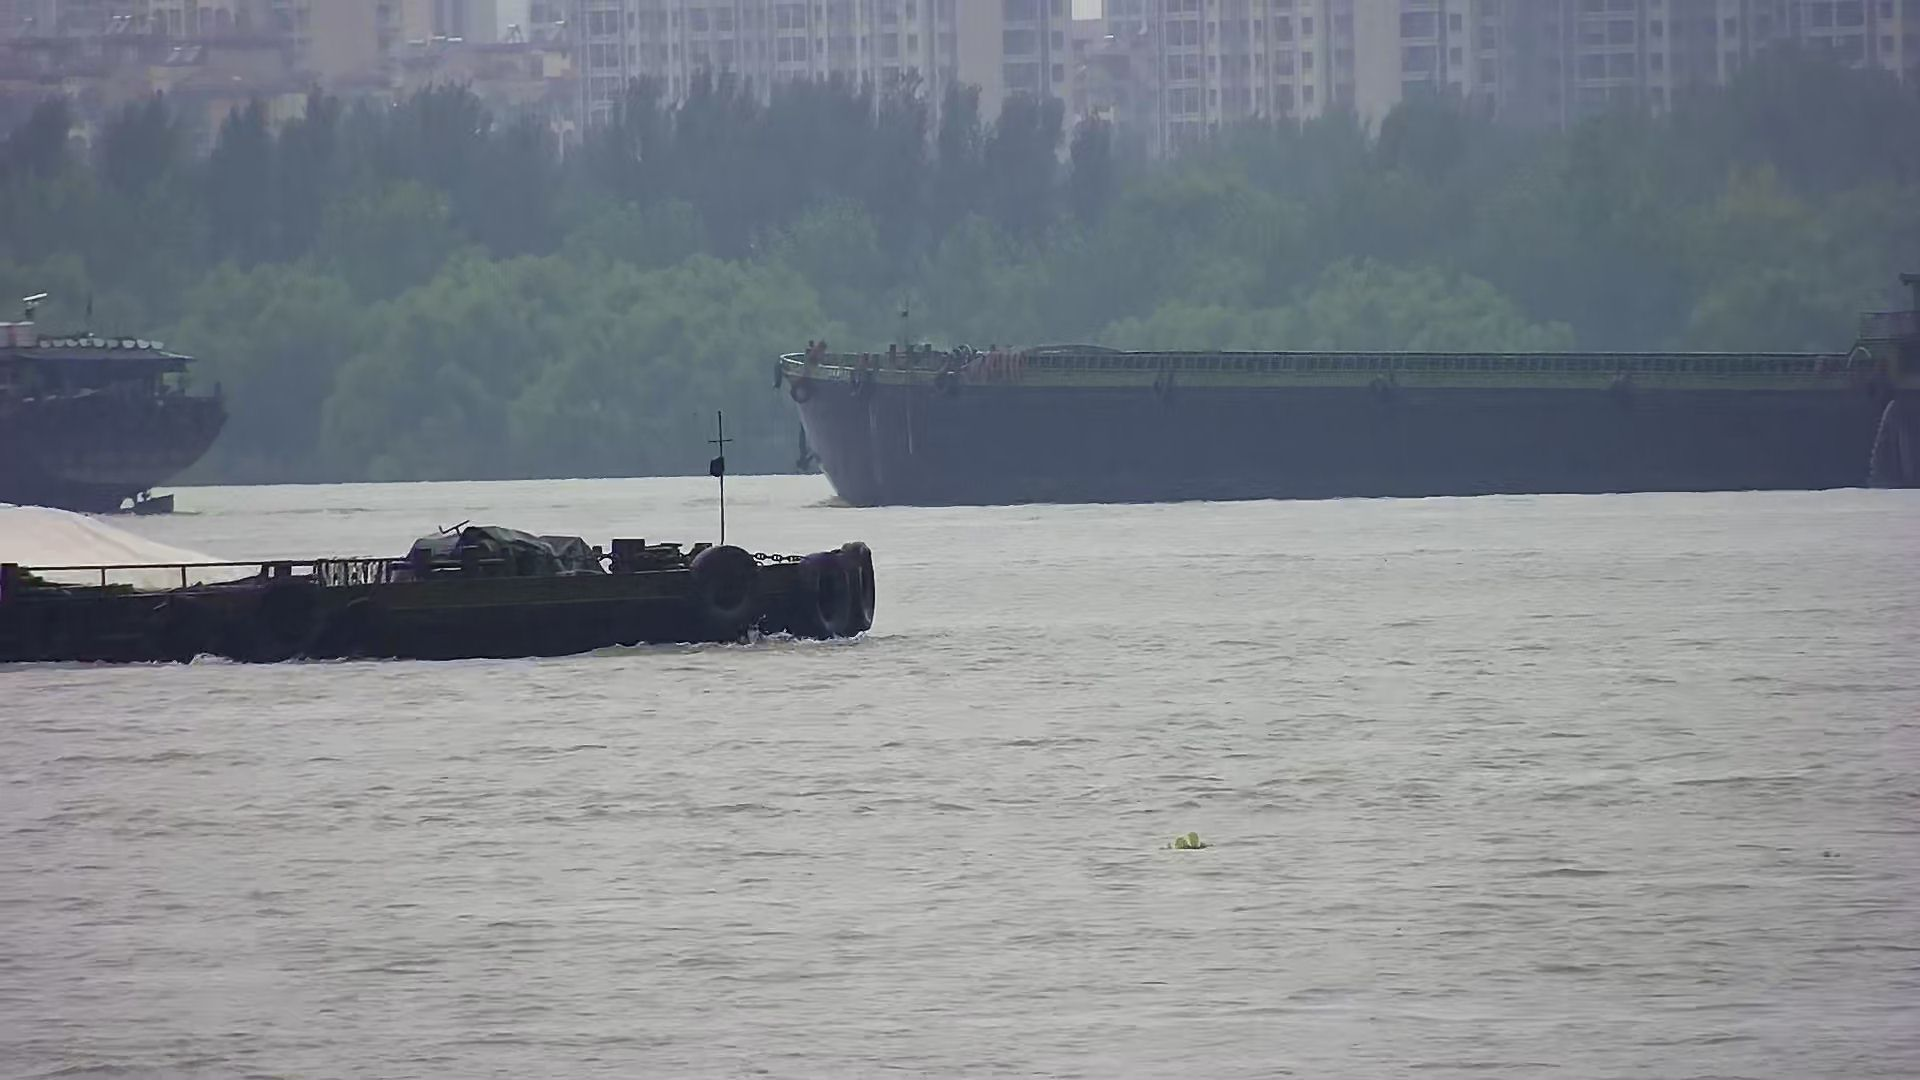rubbish: (1164, 829, 1209, 853)
ship: (769, 310, 1920, 506), (3, 504, 876, 666), (1, 289, 232, 516)
